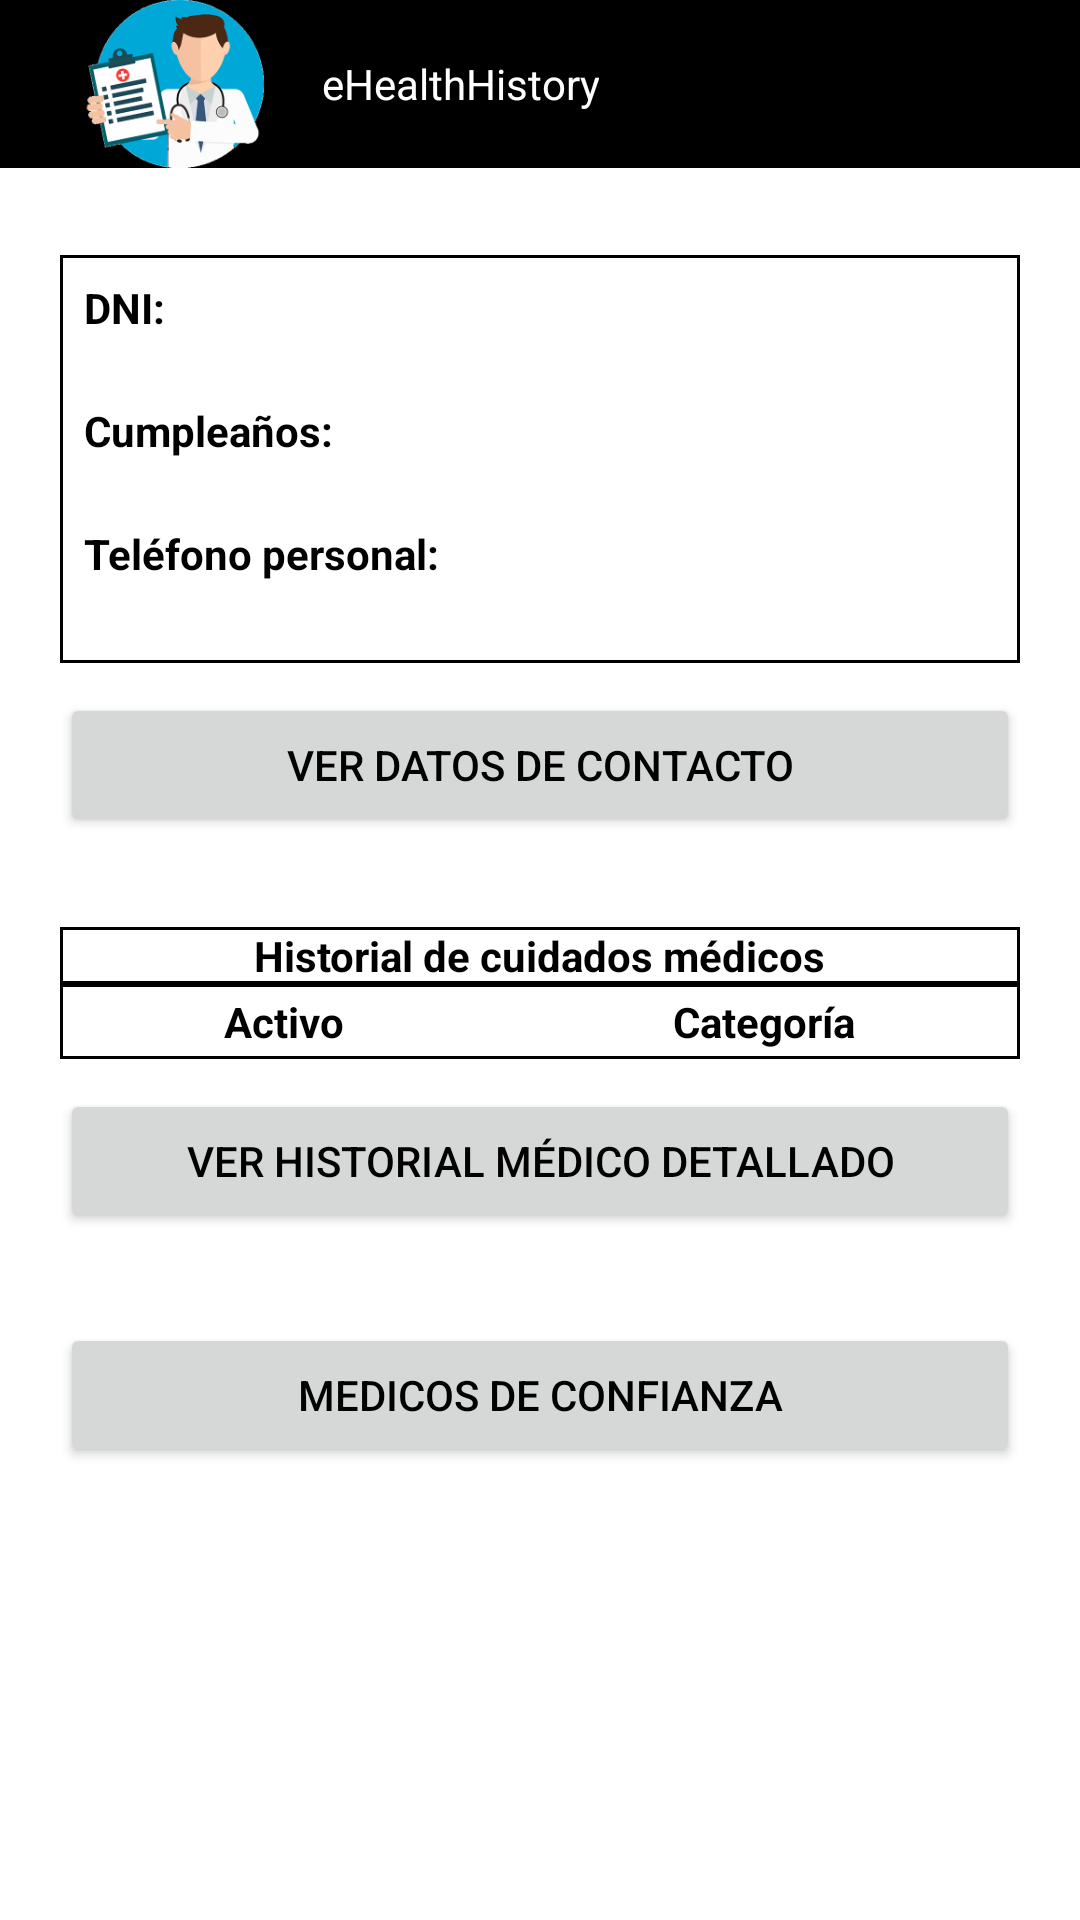

Where to tap for icons on this 1080px x 1920px app screen, as (x=x, y=y):
Imagen de la aplicación: (x=175, y=84)
